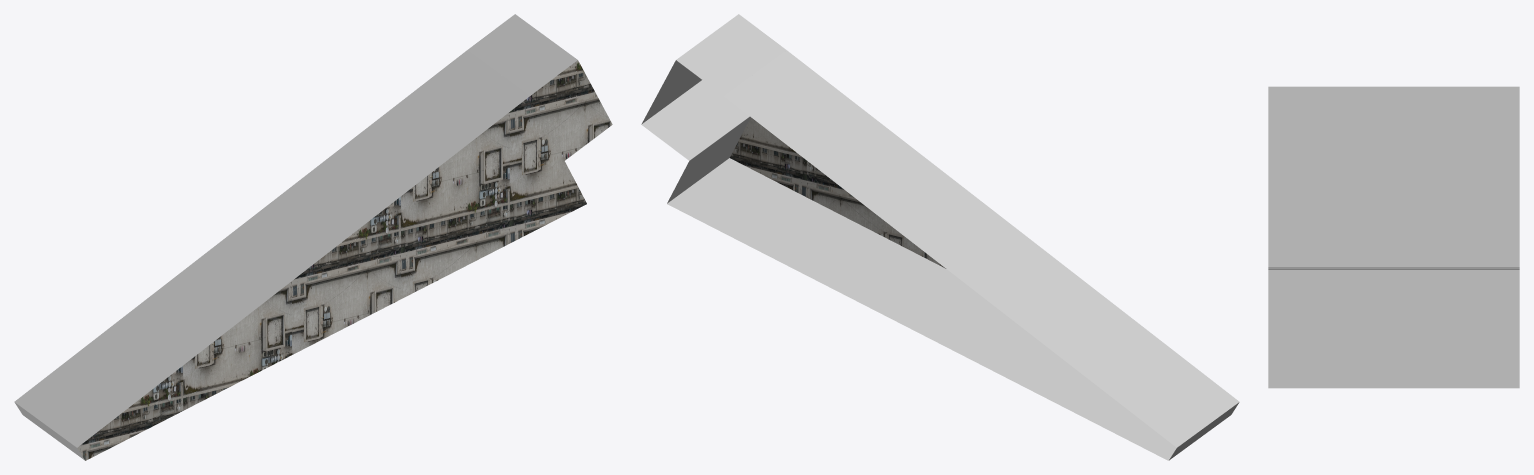
Rendered from geospecific_245.obj.
3 views of the same model, side by side, from view 1: azimuth 30°, elevation 25°; view 2: azimuth 150°, elevation 25°; view 3: azimuth 270°, elevation 25° (orthographic). The views are drawn at different scales.
Visible parts, largest first — view 1: Building; view 2: Building; view 3: Building.
Part boxes in pixels (x1,y1,x2,y2): Building: (14,14,612,460); Building: (641,14,1239,460); Building: (1268,86,1519,388).
Bounding box in the file's own units: 14.76 × 7.39 × 3.
